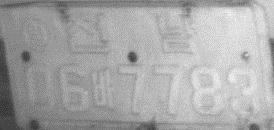0: (24, 62, 56, 113)
3: (226, 66, 260, 118)
6: (58, 63, 90, 113)
7: (152, 63, 182, 114), (117, 63, 145, 115)
8: (189, 65, 223, 116)
바: (91, 69, 115, 110)
영: (21, 16, 54, 53)
전남_D: (65, 11, 198, 55)
